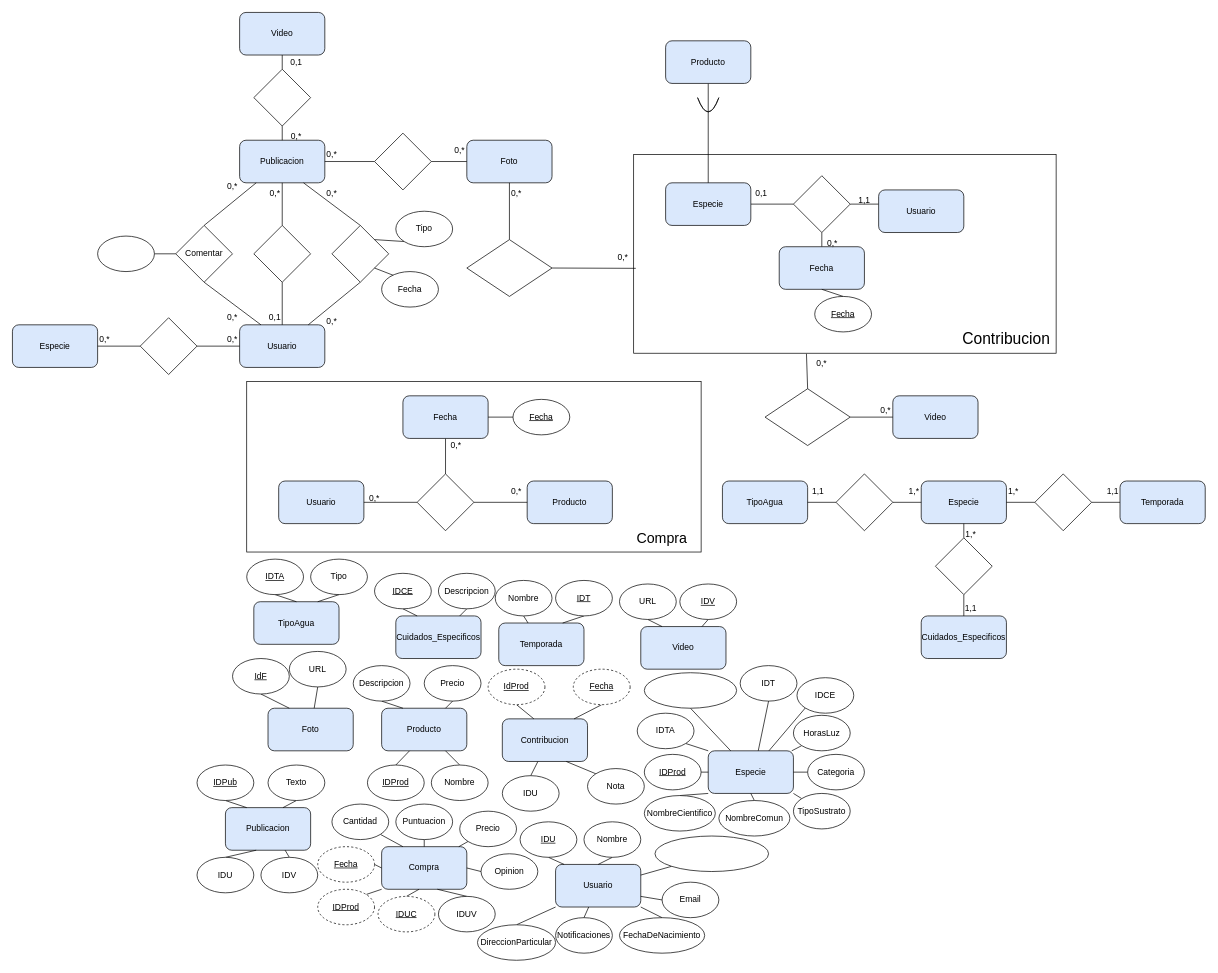
Image size: 1218x973. Some labels were removed from this diagram. The box of each missing label's shape, as (x1, y1, x2, y2) in pixels:
Adquirir: (416, 473, 474, 531)
Comentario: (97, 235, 154, 272)
ConfiguracionDePrivacidad: (654, 835, 769, 872)
Contribucion_Foto: (466, 239, 552, 296)
Contribucion_Video: (764, 388, 850, 446)
Contribuir: (793, 175, 850, 233)
Gustar: (140, 317, 197, 375)
ListrosMinimosTanque: (644, 672, 737, 708)
Necesitar: (935, 537, 992, 595)
Reaccionar: (331, 225, 389, 282)
Realizar: (253, 225, 311, 282)
Requerir: (835, 473, 893, 531)
Tener: (253, 69, 311, 126)
TenerFoto: (374, 132, 431, 190)
Vivir: (1034, 473, 1092, 531)
